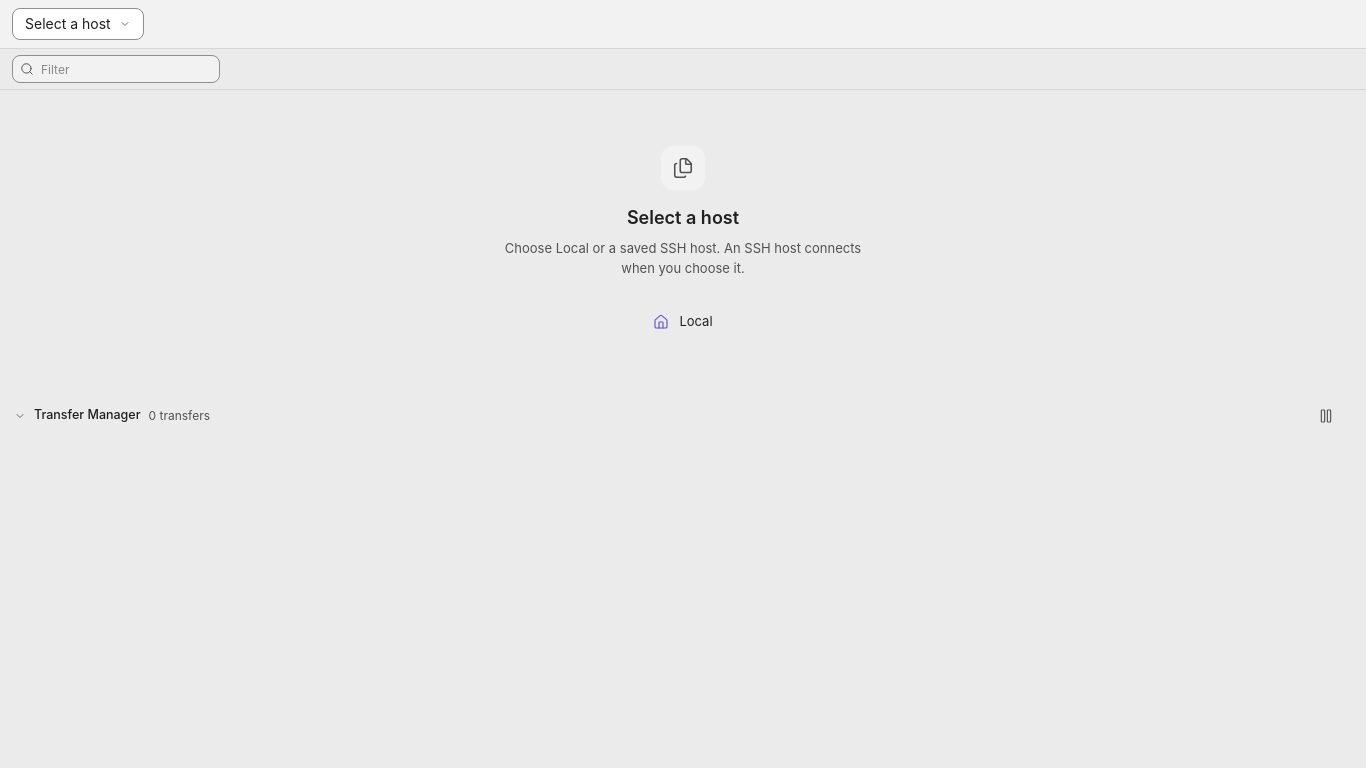
Test: SFTPPanel uploads › queues a duplicate beside the selected remote entry
Step 1. Click the button "Select a host" → (78, 24), box [12,8,144,40]
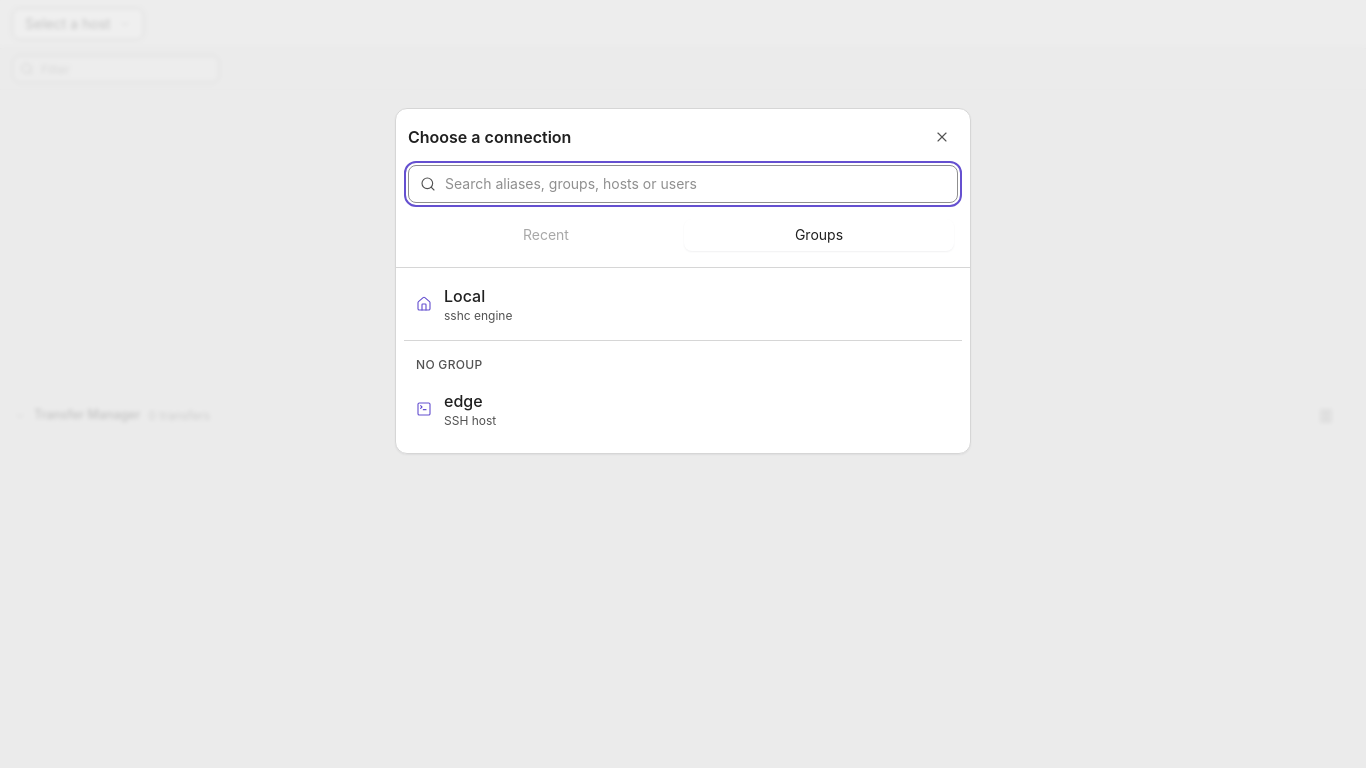
Step 2. Click the button "edge SSH host" → (463, 401), box [404,380,962,436]
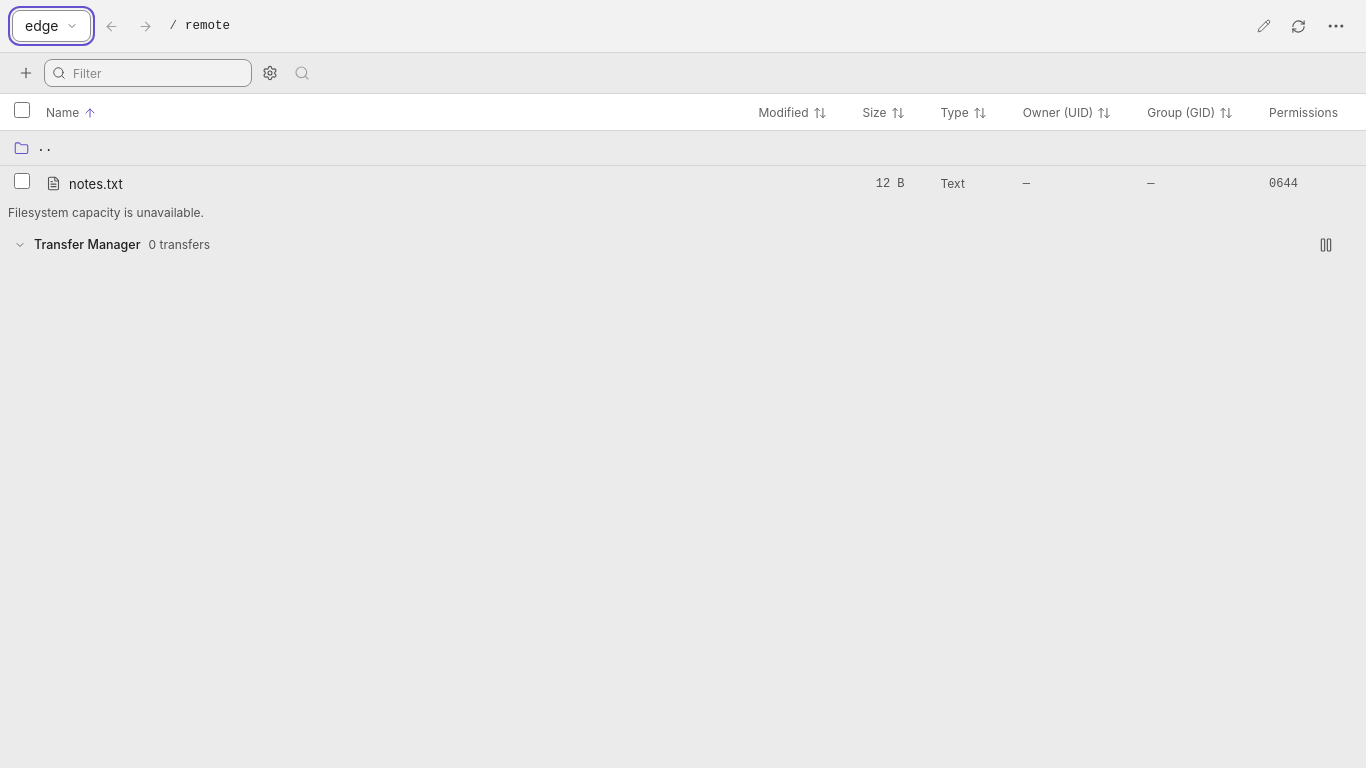
Step 3. Click the button "notes.txt" → (96, 184), box [46,174,742,194]
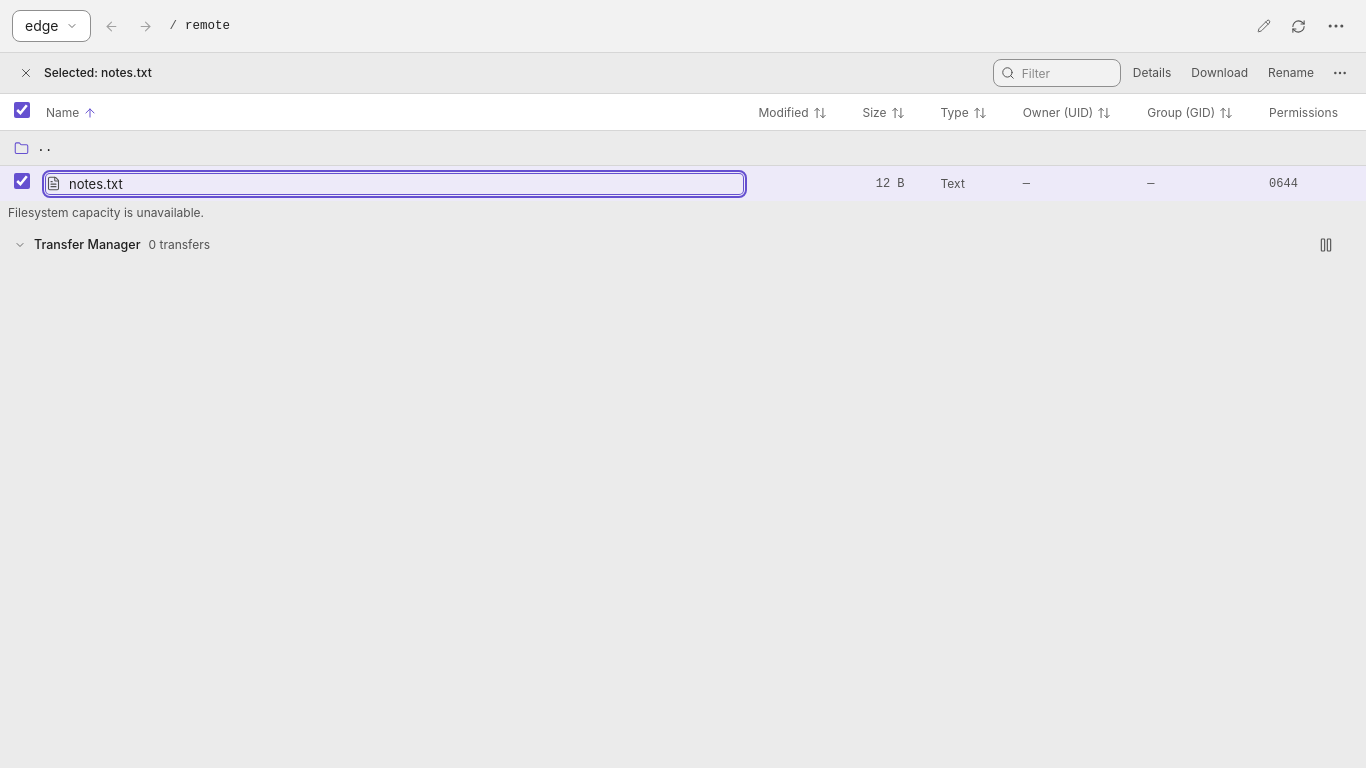
Step 4. Click the button named "Actions for notes.txt" → (1340, 73), box [1326,59,1354,87]
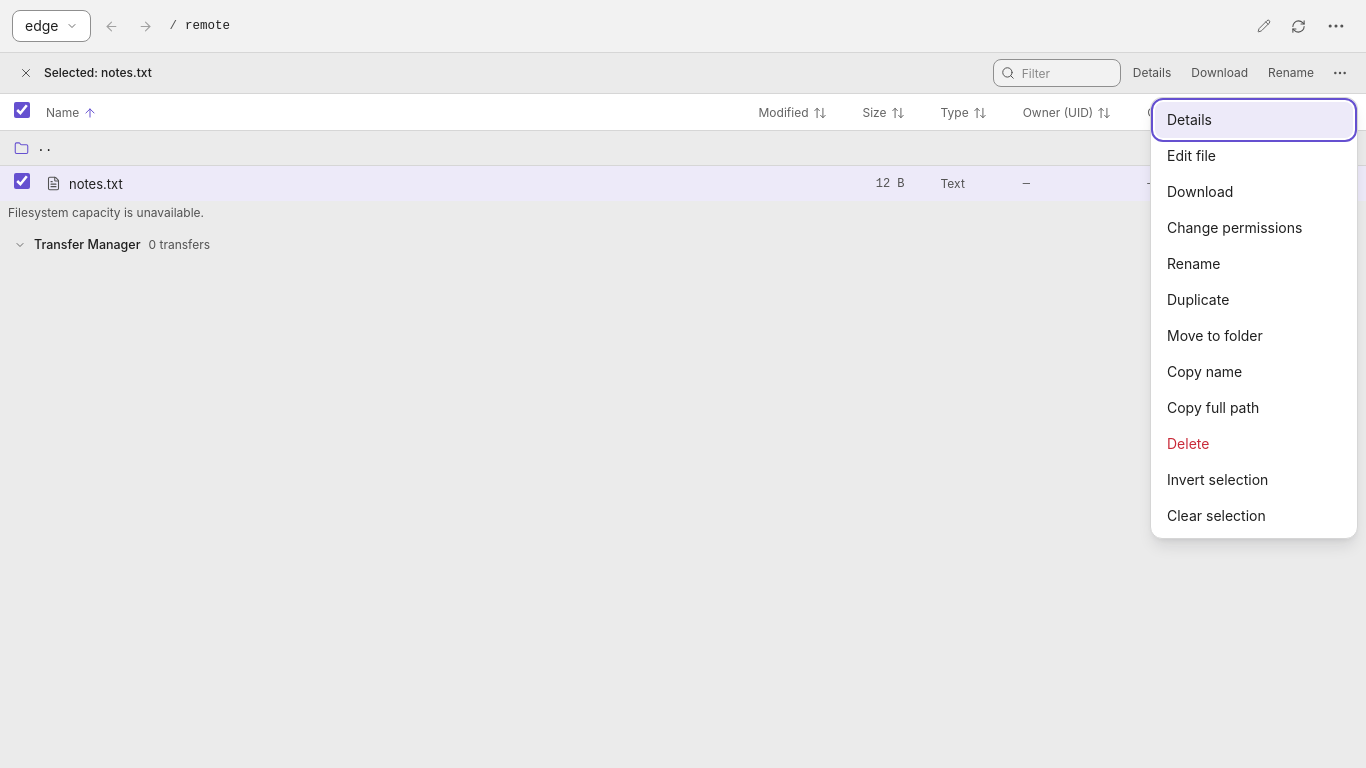
Step 5. Click the menu item "Duplicate" → (1254, 300), box [1155,282,1353,318]
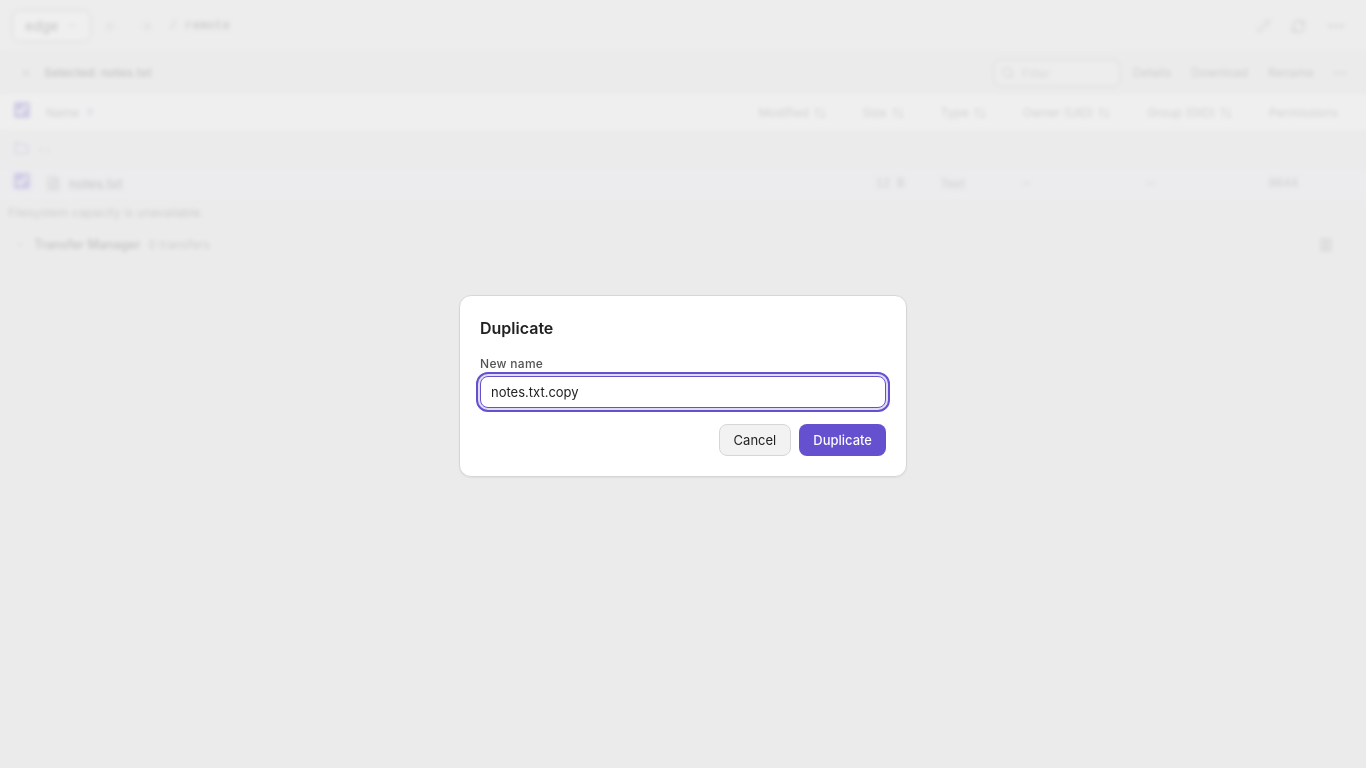
expect the field labelled "New name" holds "notes.txt.copy": met
Step 6. Replace the text in the field labelled "New name" with "notes.backup" → (683, 392), box [480,376,886,408]
Step 7. Click the button "Duplicate" → (843, 440), box [799,424,886,456]
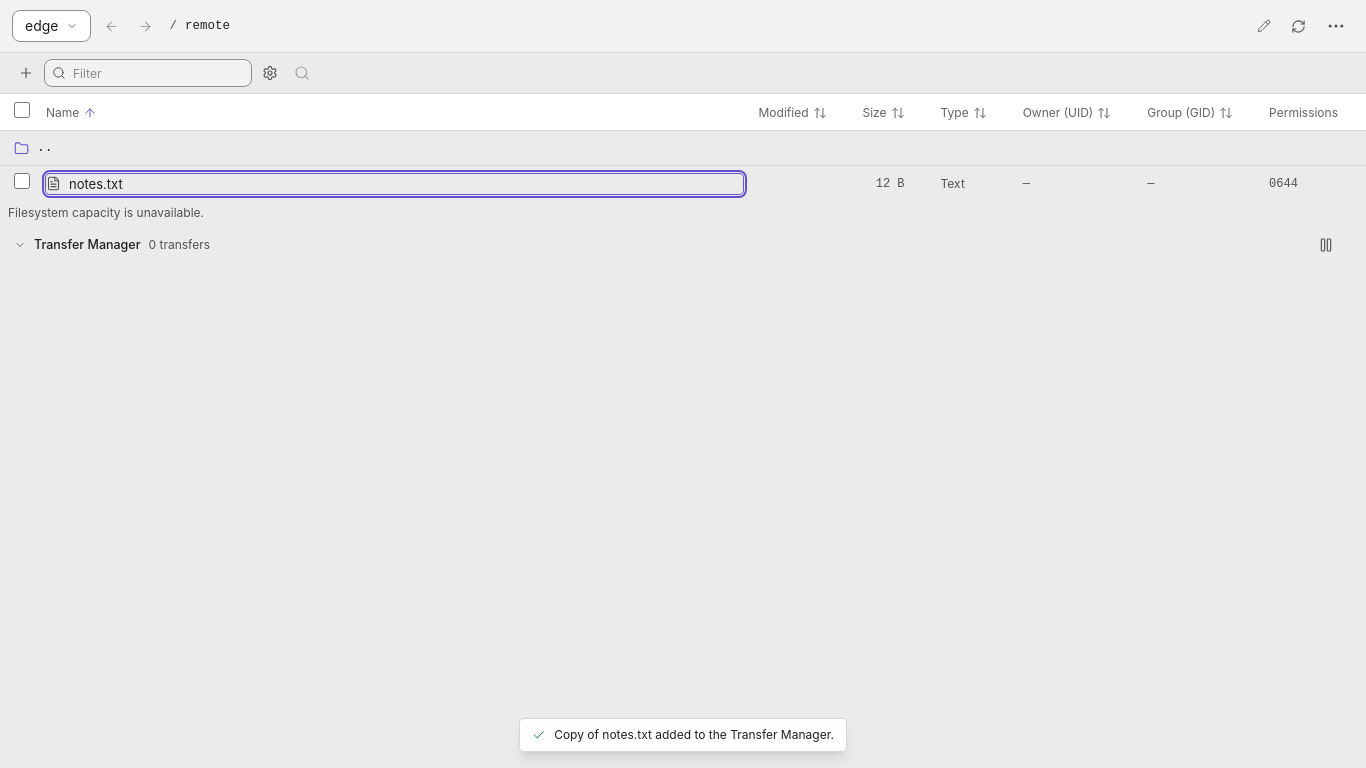
expect the text "Copy of notes.txt added to the Transfer Manager." is shown: met, box [519,718,847,752]
expect the heading "Duplicate" is gone: met
